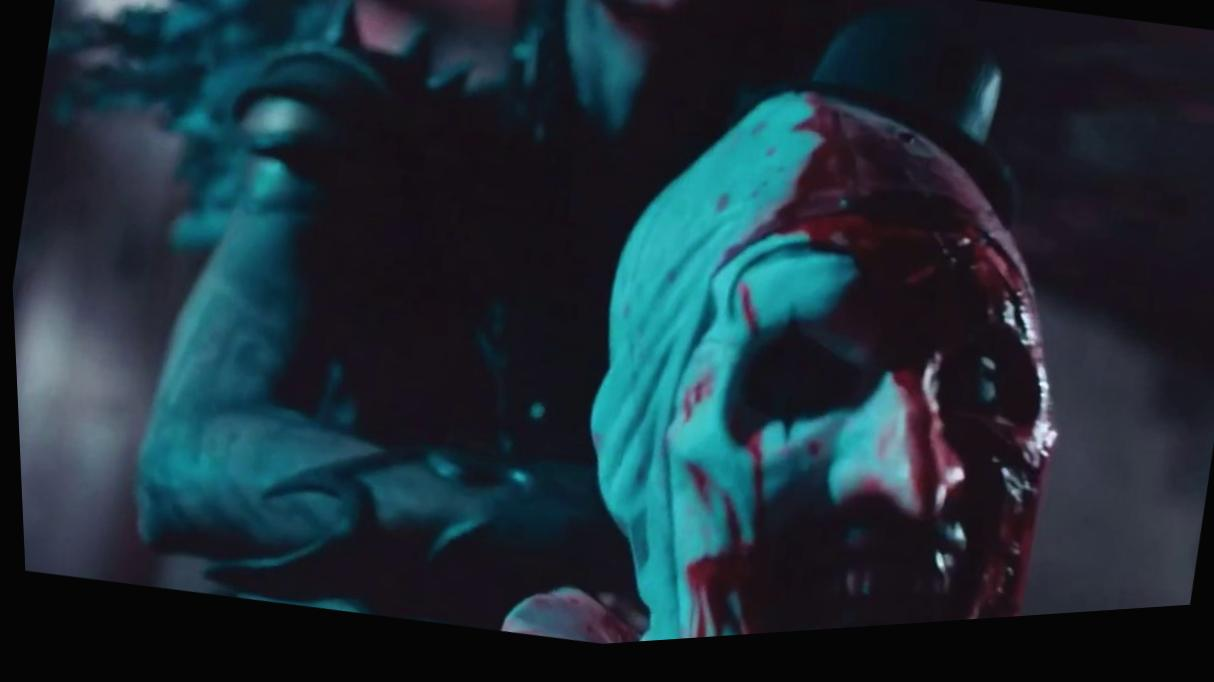Fire: (495, 107, 1050, 652)
